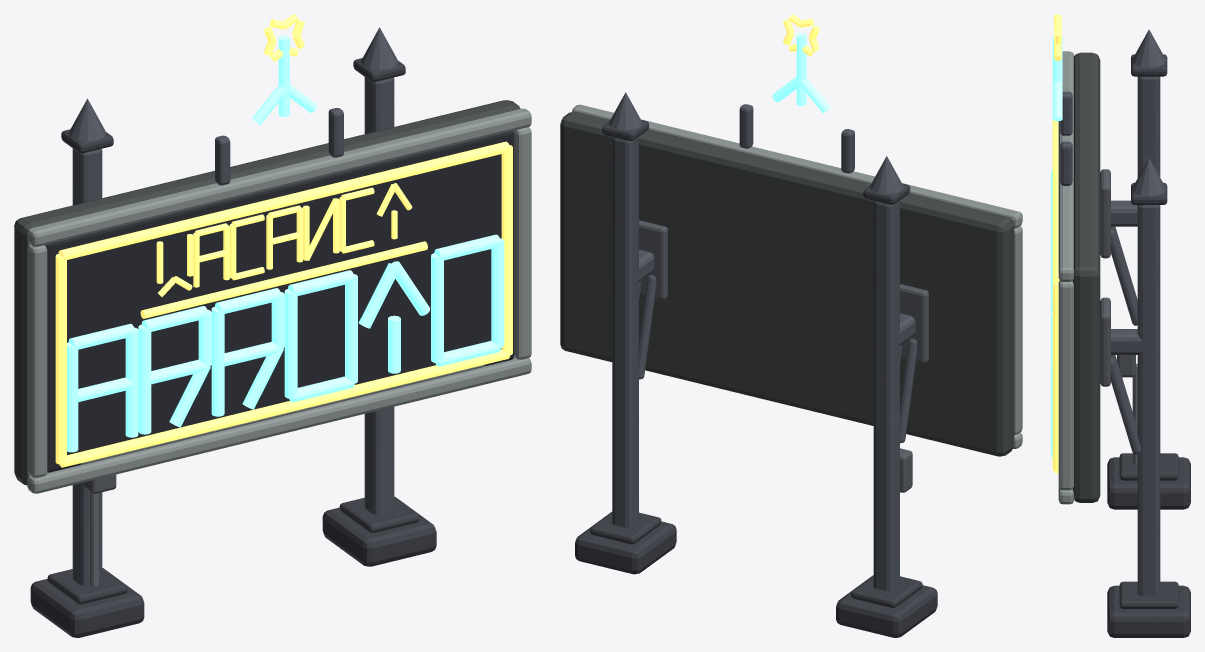
The model's file is sign_motel.glb.
3 views of the same model, side by side, from view 1: azimuth 30°, elevation 25°; view 2: azimuth 150°, elevation 25°; view 3: azimuth 270°, elevation 25° (orthographic). The views are drawn at different scales.
Visible parts, largest first — view 1: sign_motel_face, sign_motel_rail_top, sign_motel_plate, sign_motel_rail_bottom, sign_motel_border_s2, sign_motel_border_s0, sign_motel_rail_l, sign_motel_mast_1, sign_motel_rail_r, sign_motel_foot_1, sign_motel_foot_0, sign_motel_mast_0 (+35 smaller); view 2: sign_motel_plate, sign_motel_mast_1, sign_motel_mast_0, sign_motel_rail_top, sign_motel_foot_0, sign_motel_foot_1, sign_motel_rail_l, sign_motel_stiffener_1, sign_motel_stiffener_0, sign_motel_footplate_1, sign_motel_footplate_0, sign_motel_brace_0a (+4 smaller); view 3: sign_motel_plate, sign_motel_mast_1, sign_motel_rail_r, sign_motel_foot_1, sign_motel_rail_top, sign_motel_foot_0, sign_motel_mast_0, sign_motel_footplate_1, sign_motel_border_s1, sign_motel_border_s2, sign_motel_footplate_0, sign_motel_stiffener_1 (+18 smaller).
Part boxes in pixels (box(x1,y1,x2,y2)): sign_motel_face: box(45, 131, 513, 472); sign_motel_rail_top: box(27, 108, 531, 246); sign_motel_plate: box(14, 100, 520, 485); sign_motel_rail_bottom: box(27, 357, 531, 493); sign_motel_border_s2: box(58, 141, 509, 259); sign_motel_border_s0: box(59, 349, 509, 467); sign_motel_rail_l: box(27, 244, 47, 477); sign_motel_mast_1: box(364, 77, 394, 514); sign_motel_rail_r: box(513, 127, 531, 359); sign_motel_foot_1: box(322, 496, 436, 566); sign_motel_foot_0: box(30, 568, 144, 637); sign_motel_mast_0: box(72, 148, 102, 585); sign_motel_plate: box(560, 111, 1014, 456); sign_motel_mast_1: box(612, 137, 638, 527); sign_motel_mast_0: box(873, 200, 899, 591); sign_motel_rail_top: box(572, 104, 1022, 228); sign_motel_foot_0: box(836, 575, 937, 637); sign_motel_foot_1: box(575, 512, 676, 574); sign_motel_rail_l: box(1014, 226, 1022, 434); sign_motel_stiffener_1: box(639, 220, 667, 299); sign_motel_stiffener_0: box(900, 284, 928, 363); sign_motel_footplate_1: box(590, 512, 661, 544); sign_motel_footplate_0: box(851, 575, 922, 607); sign_motel_brace_0a: box(899, 338, 917, 443); sign_motel_plate: box(1072, 52, 1100, 502); sign_motel_mast_1: box(1137, 205, 1160, 596); sign_motel_rail_r: box(1058, 281, 1073, 490); sign_motel_foot_1: box(1107, 585, 1190, 637); sign_motel_rail_top: box(1058, 51, 1074, 281); sign_motel_foot_0: box(1107, 457, 1190, 509); sign_motel_mast_0: box(1137, 76, 1160, 177); sign_motel_footplate_1: box(1119, 581, 1178, 608); sign_motel_border_s1: box(1052, 283, 1058, 470); sign_motel_border_s2: box(1052, 120, 1059, 282); sign_motel_footplate_0: box(1119, 453, 1178, 480); sign_motel_stiffener_1: box(1100, 297, 1110, 386).
Bounding box in the file's own units: 2.99 × 3.43 × 0.8032.
Materials: 72 (3 with a texture image).
